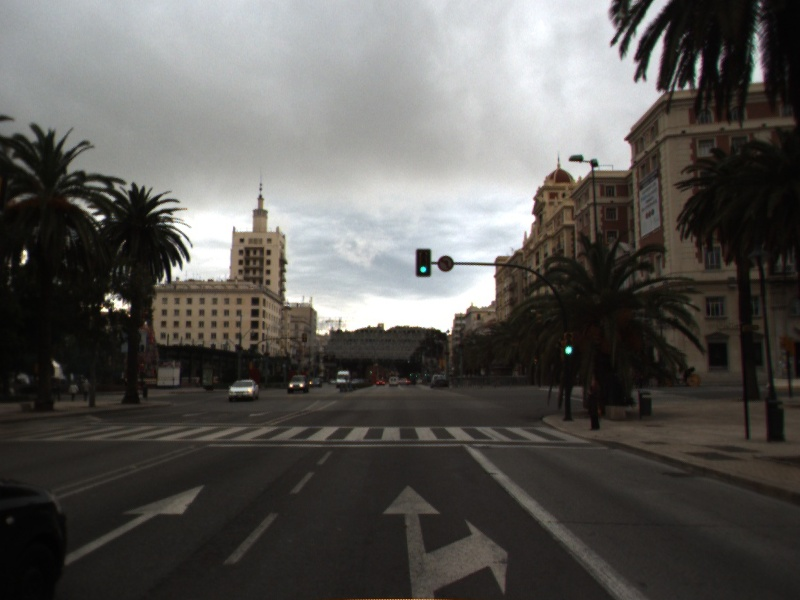STRAIGHT: (64, 482, 207, 567)
STRAIGHT_RIGHT: (381, 483, 510, 600)
